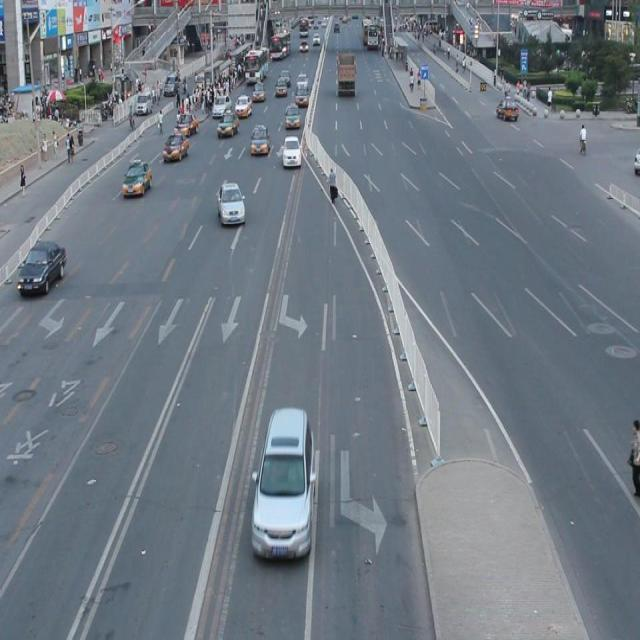car: (249, 403, 315, 558), (18, 238, 68, 296), (216, 178, 245, 227), (122, 160, 152, 198), (282, 134, 302, 169)
